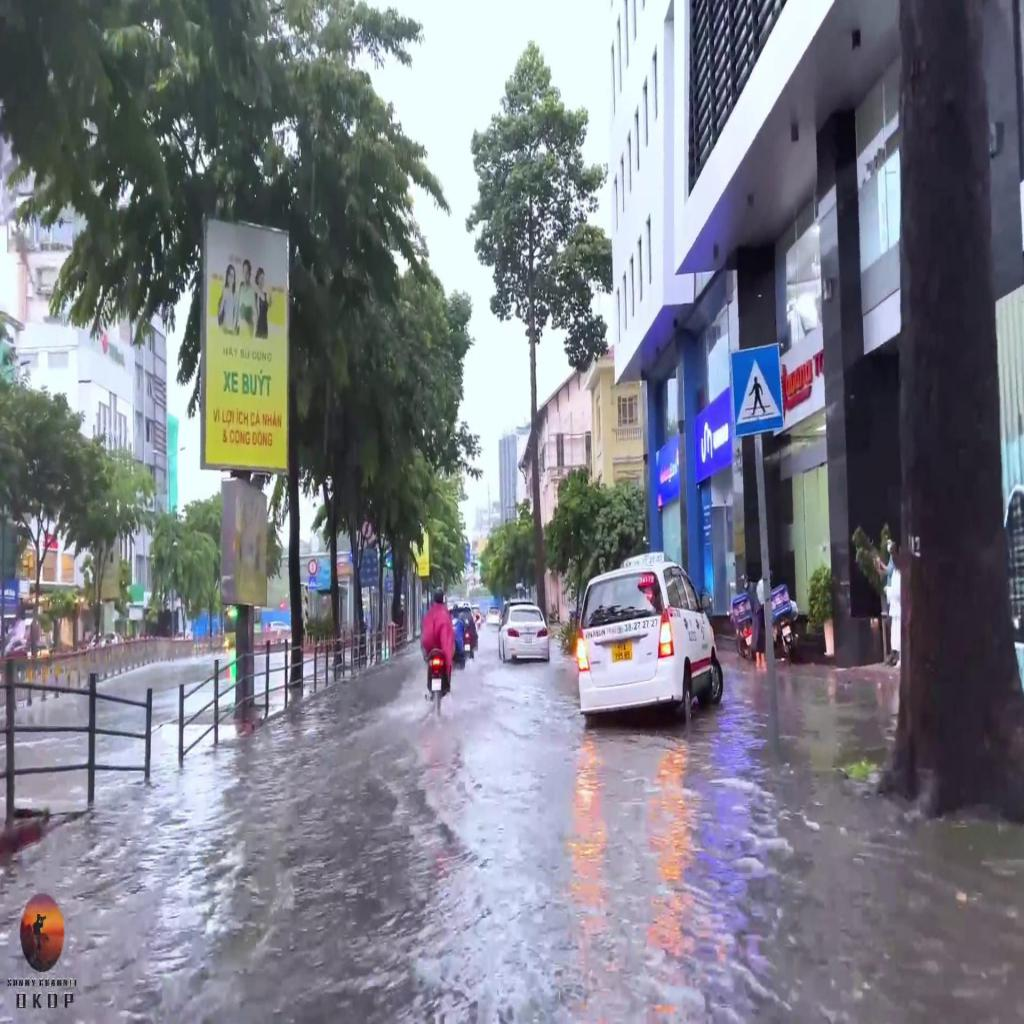duong_nguoi_di_bo_sang_ngang: (732, 343, 783, 437)
